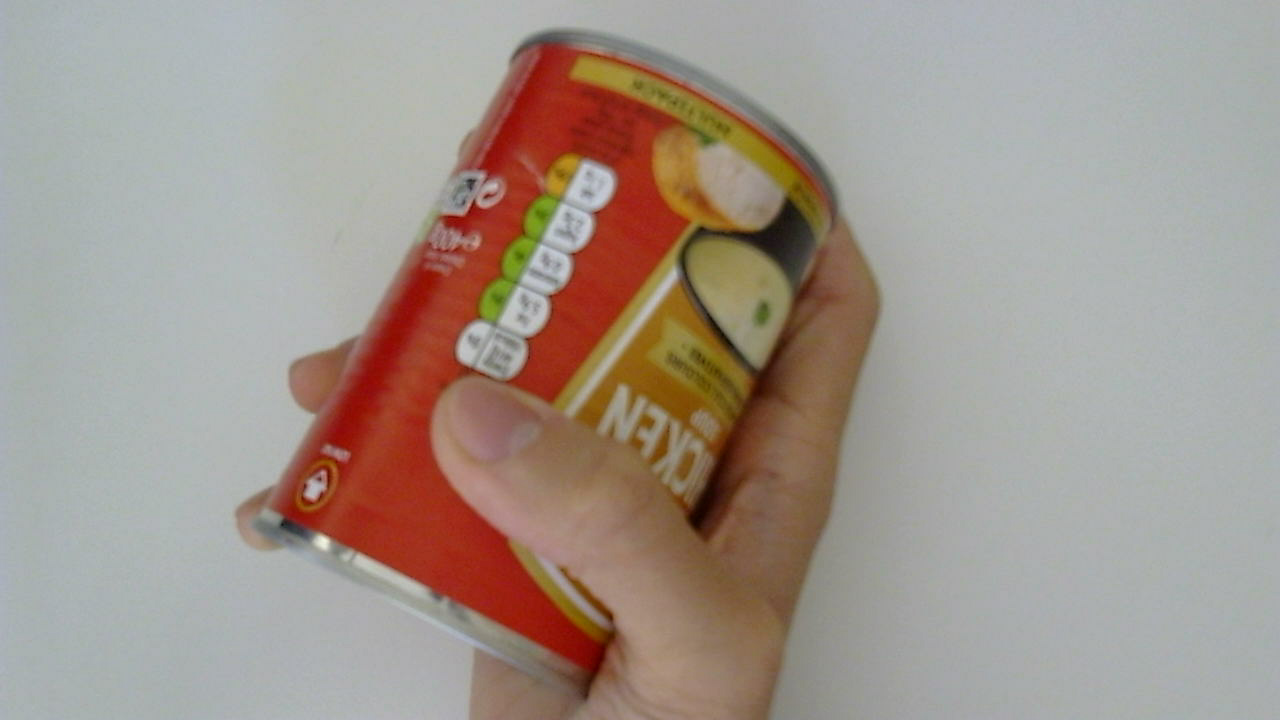Metal Tin: (254, 31, 848, 709)
